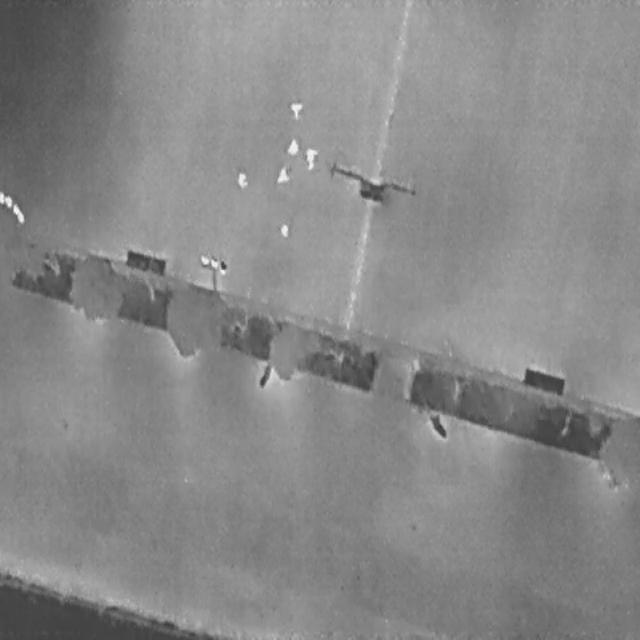Person: (305, 148, 318, 168), (289, 100, 302, 119), (276, 165, 289, 183), (287, 136, 298, 155), (237, 172, 247, 186), (280, 222, 288, 236)
